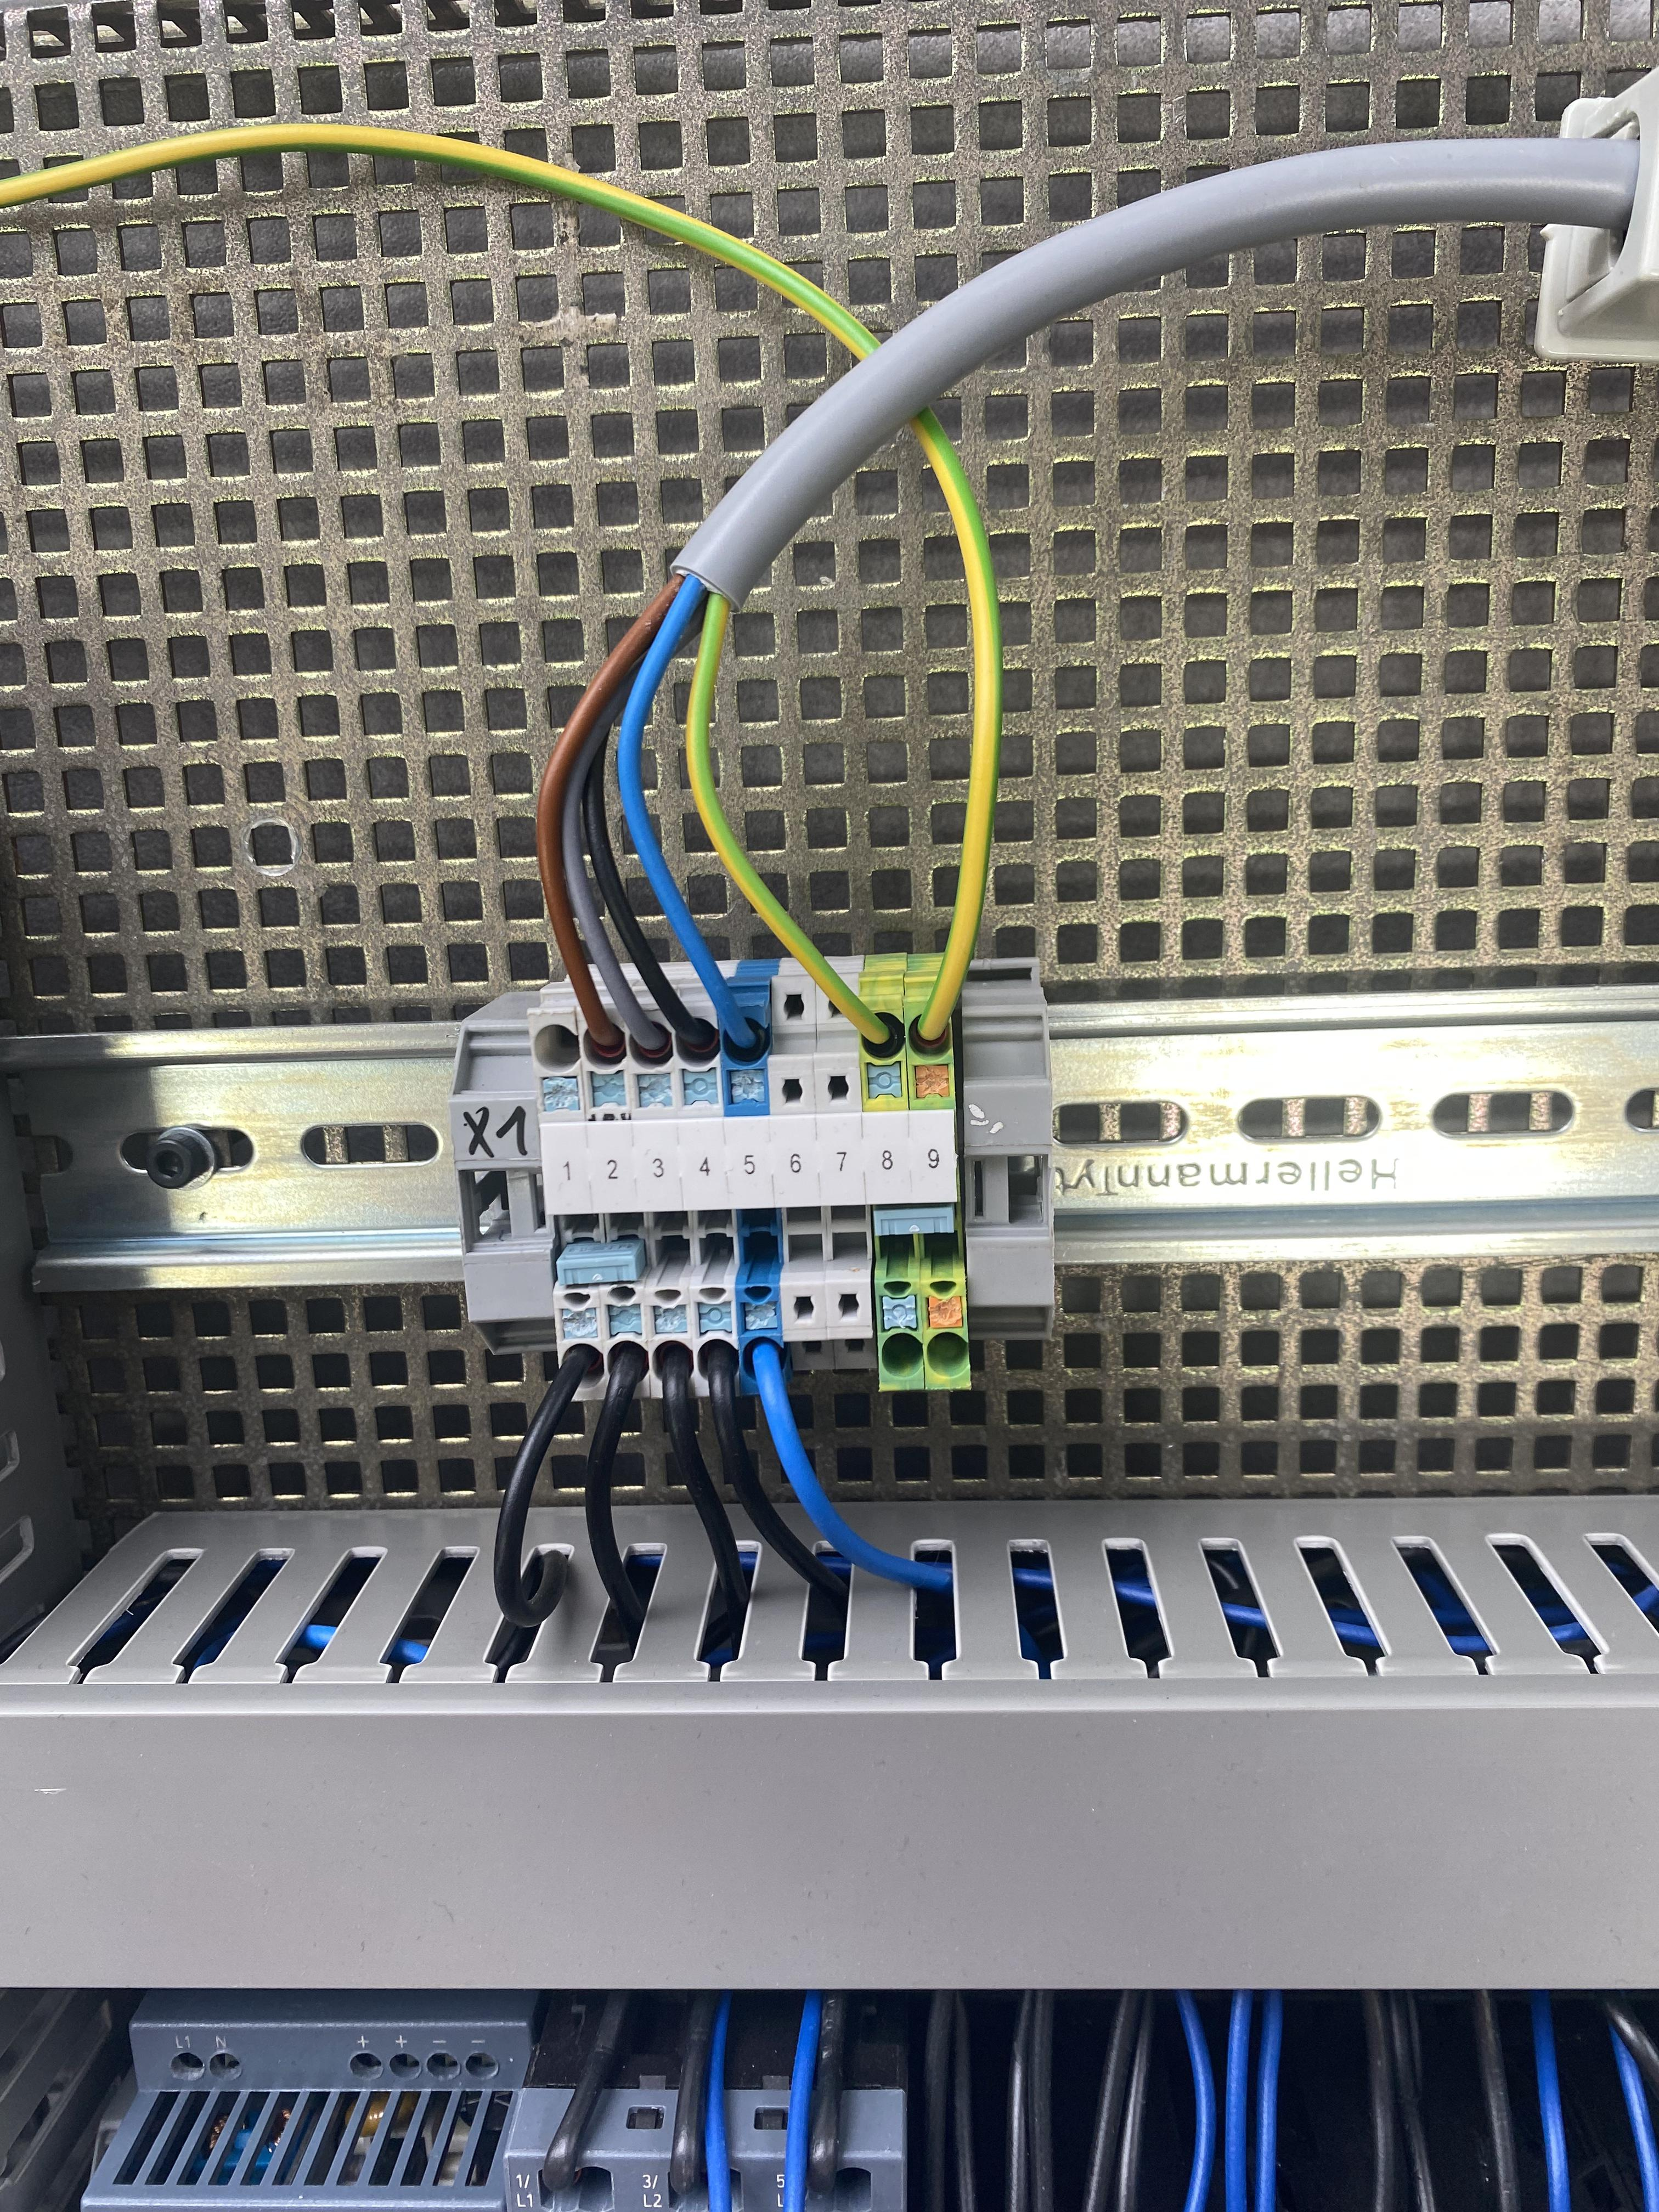F1: (502, 2148, 908, 2212)
T1: (80, 2015, 530, 2212)
X1: (443, 989, 1054, 1392)
